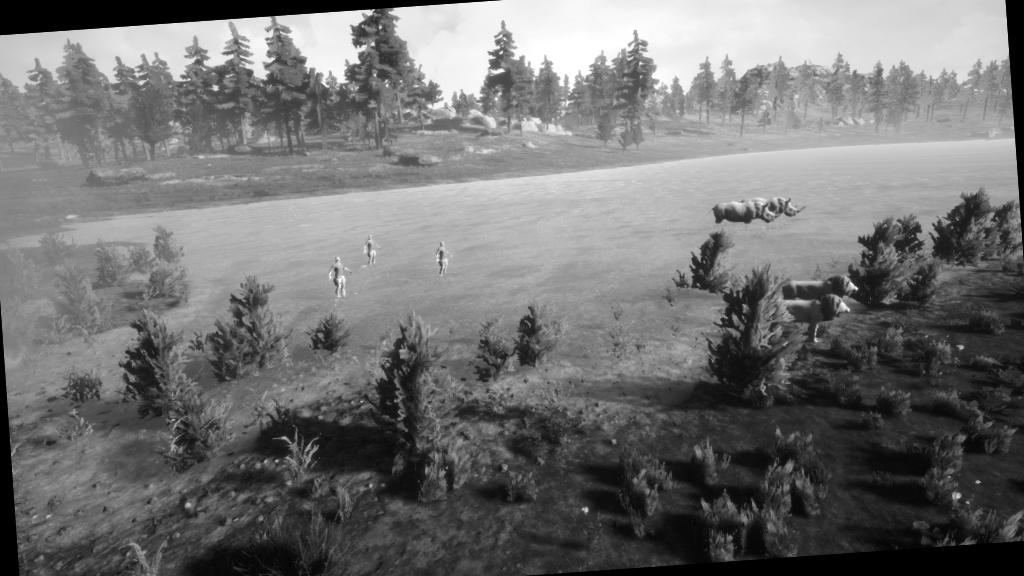Fire: (0, 308, 32, 374)
human: (326, 254, 356, 302), (430, 235, 456, 285), (358, 228, 384, 270)
lion: (758, 290, 864, 348), (773, 272, 866, 310)
rhinoceros: (704, 197, 786, 230), (737, 194, 804, 222)
